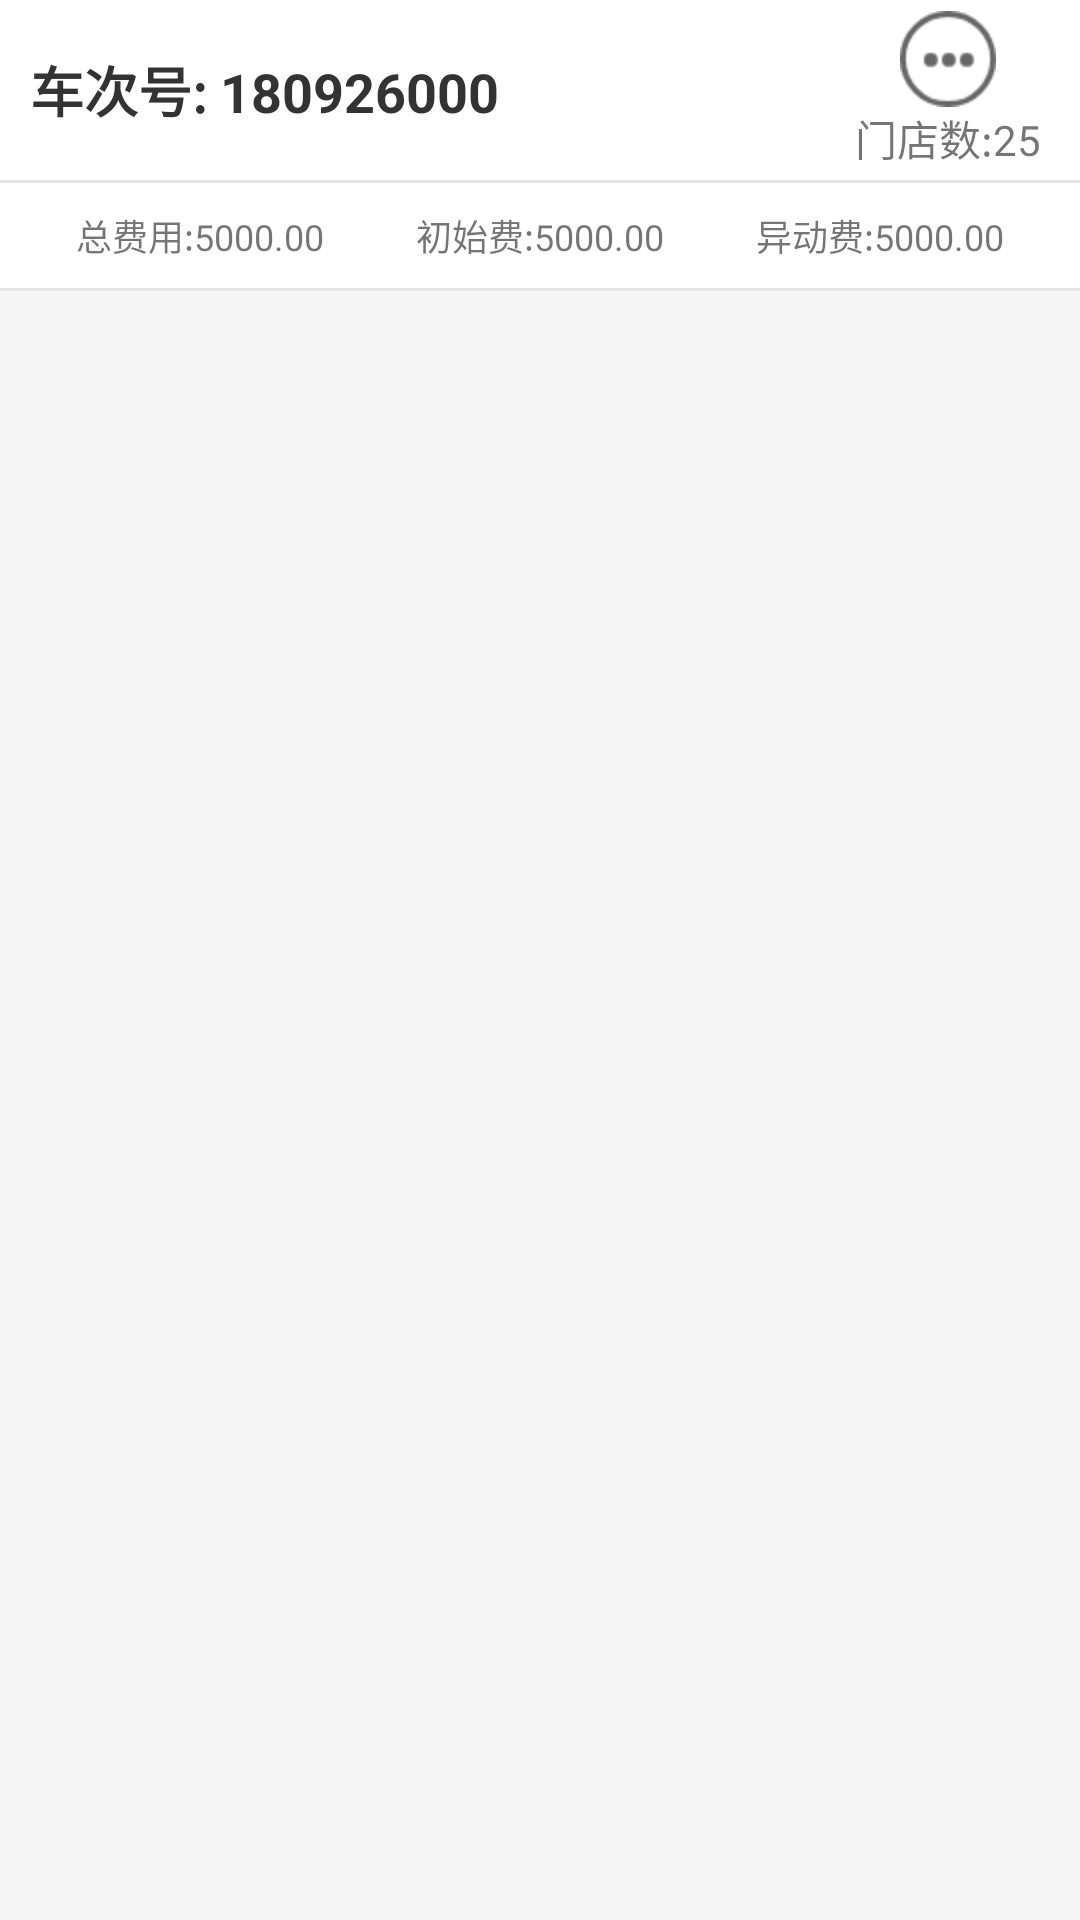

Icons on this 1080*1920 Android screen, each with the point to tap as (x=x, y=y):
scan detail: (x=948, y=59)
